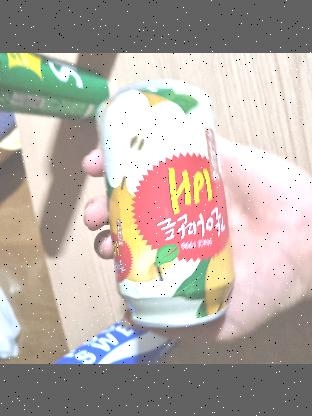Can: (92, 73, 228, 331)
